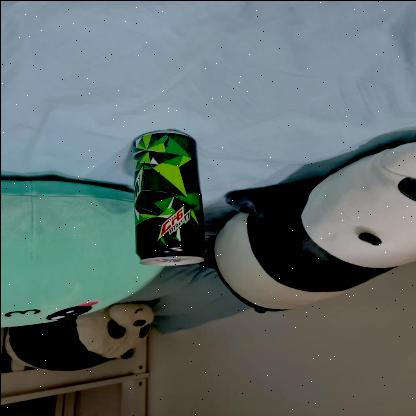Can: (125, 126, 207, 268)
